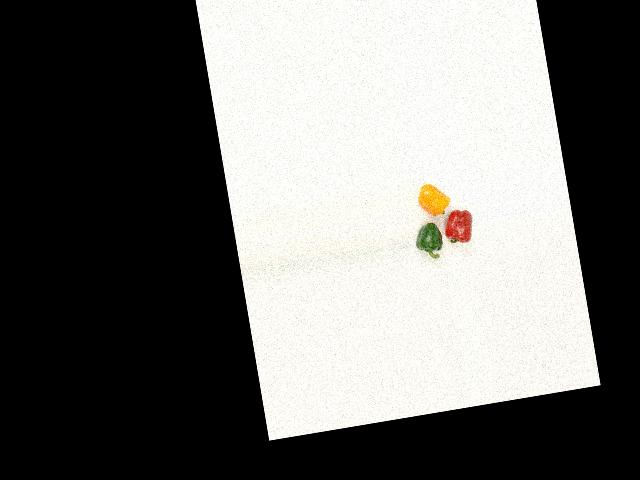bell_pepper: (412, 220, 447, 262)
